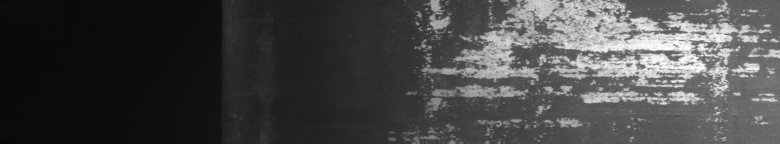kb: (406, 4, 776, 136)
